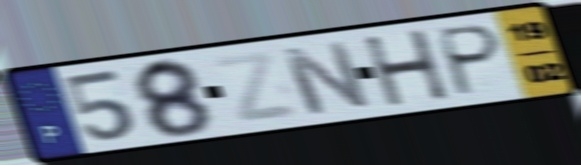5: (61, 66, 139, 143)
8: (129, 56, 218, 140)
H: (359, 26, 454, 109)
N: (276, 39, 375, 118)
P: (436, 22, 505, 100)
Z: (208, 47, 303, 126)
